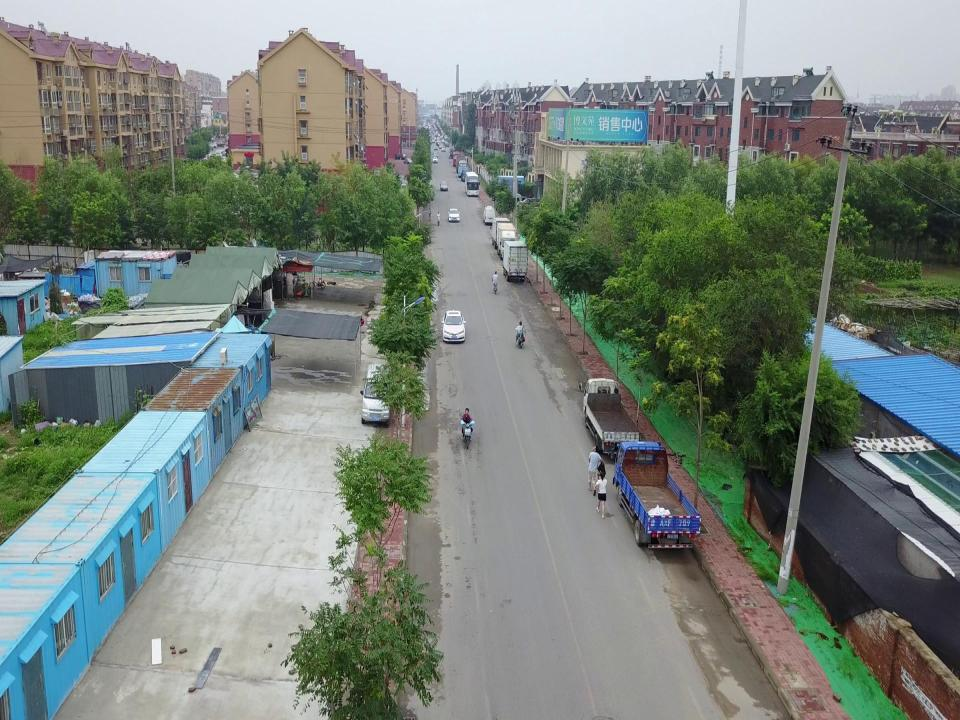bus: (458, 160, 468, 178), (452, 151, 462, 167)
car: (441, 310, 467, 343), (501, 194, 527, 204), (448, 208, 460, 222), (440, 181, 448, 191), (403, 158, 413, 165), (207, 142, 218, 148), (401, 153, 407, 160), (432, 156, 438, 163), (394, 154, 400, 160), (433, 152, 439, 158), (441, 146, 446, 152), (439, 145, 445, 149), (434, 145, 438, 150), (444, 142, 449, 146), (445, 142, 449, 146), (431, 140, 435, 144), (442, 139, 445, 143), (439, 136, 442, 139)
truck: (612, 440, 702, 551), (578, 376, 642, 457), (502, 240, 528, 283), (496, 222, 518, 261), (490, 217, 512, 250), (464, 171, 480, 196), (456, 156, 466, 173), (460, 169, 470, 182), (450, 149, 456, 159)
van: (361, 363, 393, 428), (482, 205, 496, 225)
